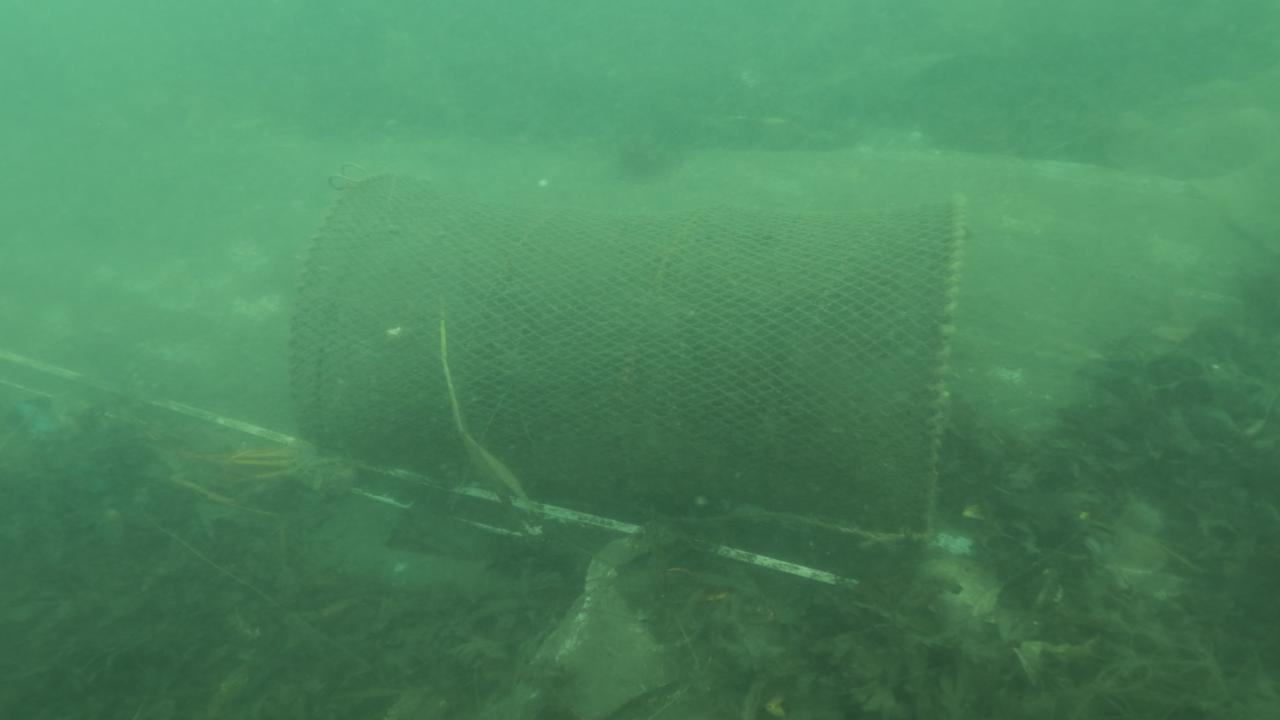spring fish trap: (279, 169, 968, 548)
